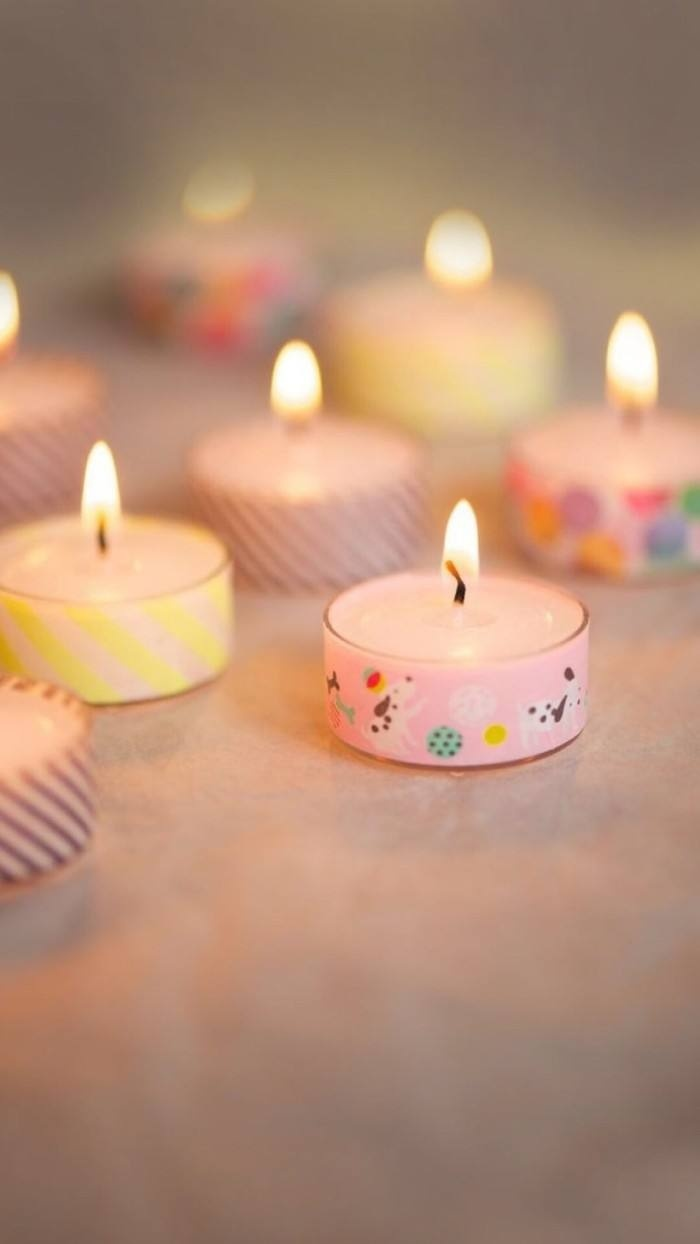fire: (599, 305, 664, 416), (263, 333, 324, 433), (76, 434, 129, 546), (436, 491, 480, 602)
